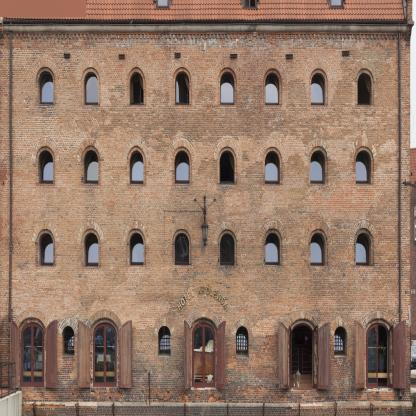Building Outline: (0, 0, 414, 416)
Cornice: (86, 309, 123, 332), (76, 57, 106, 85), (348, 219, 379, 245), (166, 137, 197, 163), (211, 137, 242, 163), (257, 137, 288, 163), (30, 219, 60, 245), (121, 136, 151, 162), (121, 57, 151, 83), (166, 219, 196, 245), (212, 219, 242, 245), (258, 219, 288, 245), (303, 219, 333, 245), (303, 137, 333, 163), (360, 309, 397, 330), (284, 310, 321, 331), (30, 57, 61, 82), (30, 136, 61, 161), (212, 58, 243, 83), (350, 57, 379, 83), (349, 137, 378, 163), (76, 219, 106, 244), (121, 219, 151, 244), (167, 58, 197, 83), (257, 59, 287, 84), (303, 59, 333, 84), (76, 136, 105, 161), (15, 309, 50, 329), (186, 309, 221, 329), (56, 316, 79, 336), (329, 316, 352, 336), (153, 316, 176, 336), (231, 316, 254, 336)
Deco: (177, 285, 230, 312)
Door: (191, 322, 216, 387), (366, 323, 390, 388), (20, 322, 44, 387), (93, 322, 117, 387), (290, 323, 314, 388)
Facade: (0, 0, 414, 415)
Floor: (1, 34, 410, 123), (1, 218, 410, 292), (1, 134, 410, 206)
Floor Slab: (1, 22, 410, 34), (1, 291, 410, 303), (1, 206, 410, 218), (1, 123, 410, 135)
Ground Floor: (1, 303, 410, 416)
Molding: (3, 32, 407, 40)
Roof: (3, 0, 405, 19)
Top Floor: (0, 0, 410, 22)
Window: (83, 233, 99, 268), (83, 150, 99, 184), (174, 150, 190, 184), (310, 150, 326, 184), (356, 150, 371, 185), (129, 150, 144, 185), (38, 150, 53, 184), (265, 150, 280, 184), (356, 233, 371, 266), (357, 73, 372, 106), (129, 233, 144, 266), (129, 72, 144, 105), (220, 233, 235, 266), (265, 233, 280, 266), (310, 233, 325, 266), (311, 73, 326, 106), (220, 150, 234, 185), (38, 233, 53, 265), (174, 233, 189, 265), (265, 73, 280, 105), (39, 71, 53, 105), (84, 71, 98, 105), (175, 71, 189, 105), (220, 71, 234, 105), (158, 325, 171, 357), (236, 326, 249, 358), (334, 326, 347, 357), (62, 325, 74, 357), (158, 0, 168, 6), (245, 0, 254, 6), (331, 0, 340, 5)
